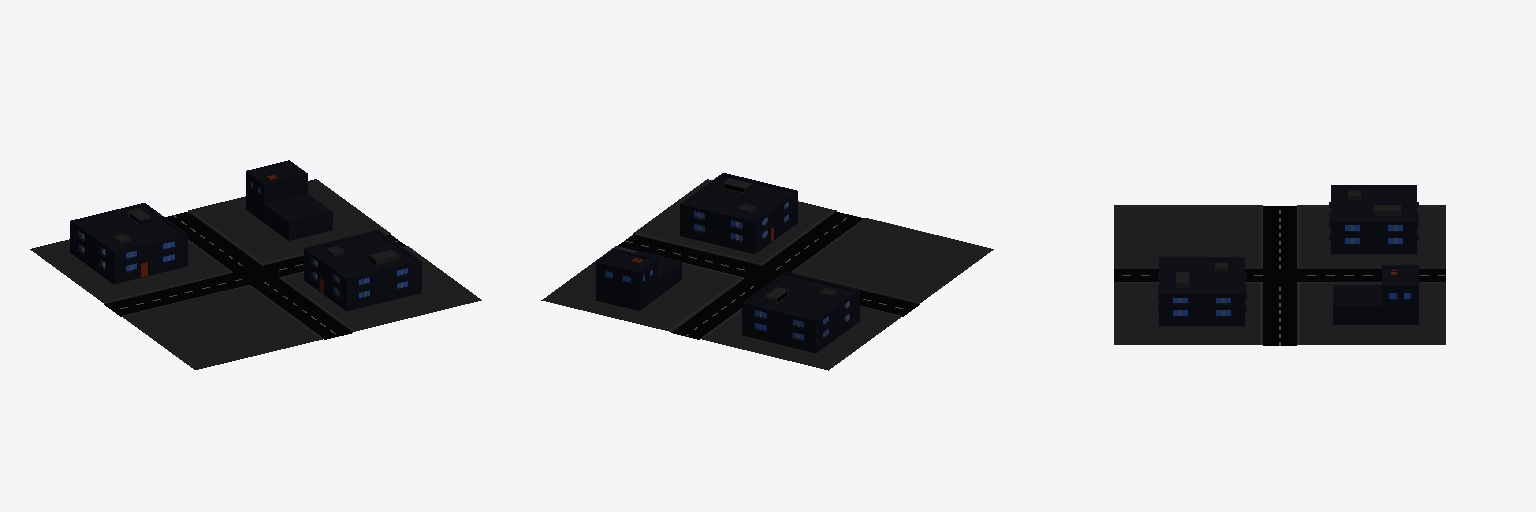
File: cybercity88.obj
3 views of the same model, side by side, from view 1: azimuth 30°, elevation 25°; view 2: azimuth 150°, elevation 25°; view 3: azimuth 270°, elevation 25° (orthographic).
Parts seen in each view (by area): view 1: Cube.005, Cube.004, Cube.002, Cube.001; view 2: Cube.005, Cube.004, Cube.002, Cube.001, Cube.006; view 3: Cube.005, Cube.004, Cube.002, Cube.001, Cube.006.
Boxes of the visible parts, x1=… form: Cube.005: x1=30, y1=179, x2=481, y2=369; Cube.004: x1=70, y1=160, x2=421, y2=310; Cube.002: x1=104, y1=212, x2=405, y2=339; Cube.001: x1=104, y1=210, x2=408, y2=339; Cube.005: x1=541, y1=178, x2=993, y2=370; Cube.004: x1=596, y1=173, x2=859, y2=352; Cube.002: x1=618, y1=184, x2=918, y2=339; Cube.001: x1=615, y1=210, x2=919, y2=338; Cube.006: x1=606, y1=202, x2=849, y2=339; Cube.005: x1=1114, y1=191, x2=1445, y2=344; Cube.004: x1=1158, y1=185, x2=1418, y2=325; Cube.002: x1=1114, y1=206, x2=1445, y2=345; Cube.001: x1=1114, y1=205, x2=1445, y2=344; Cube.006: x1=1173, y1=225, x2=1410, y2=315.
Size of the model in its own units: 99.8 by 13.19 by 99.93.